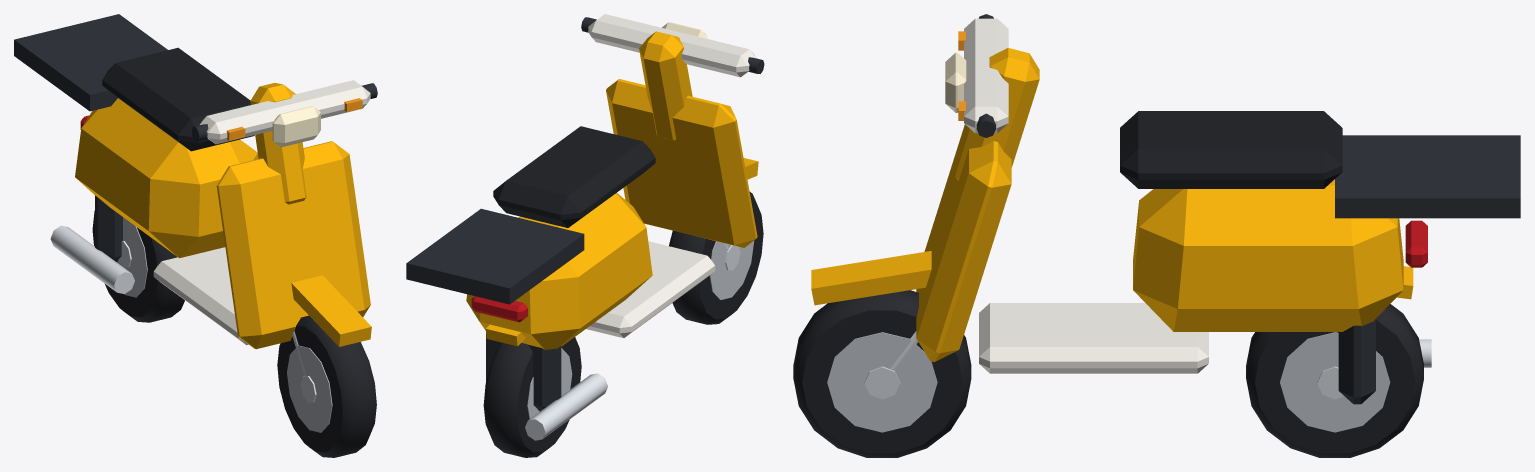
File: moped.glb
3 renders of one model, left to right at view 1: azimuth 30°, elevation 25°; view 2: azimuth 150°, elevation 25°; view 3: azimuth 270°, elevation 25°, orthographic. The views are drawn at different scales.
Parts seen in each view (by area): view 1: body, fork, wheel_F, wheel_R; view 2: body, fork, wheel_R, wheel_F; view 3: body, fork, wheel_F, wheel_R.
Boxes of the visible parts, x1,y1,x2,y2 form: body: (14, 14, 258, 345); fork: (191, 80, 377, 376); wheel_F: (277, 315, 376, 457); wheel_R: (92, 210, 184, 322); body: (406, 126, 715, 440); fork: (581, 14, 764, 250); wheel_R: (483, 337, 581, 457); wheel_F: (669, 192, 763, 324); body: (979, 111, 1520, 404); fork: (811, 14, 1039, 370); wheel_F: (793, 290, 971, 457); wheel_R: (1246, 304, 1423, 457).
Size of the model in its own units: 0.68 by 1.19 by 1.96.
